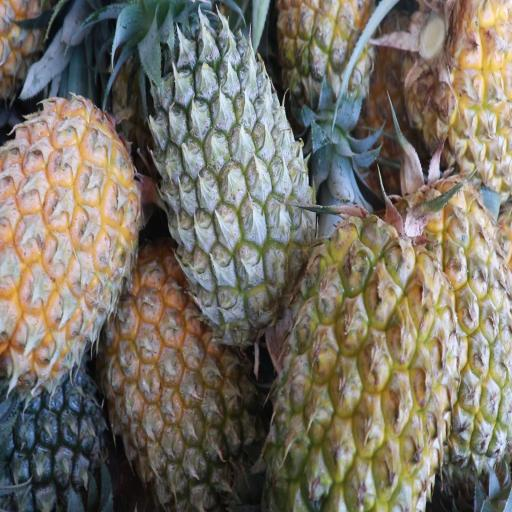------------------------------: (277, 0, 374, 187)
Pineapple - v8 v1: (270, 217, 452, 512), (107, 248, 261, 502), (0, 101, 141, 366), (385, 180, 511, 446), (400, 0, 511, 178)
